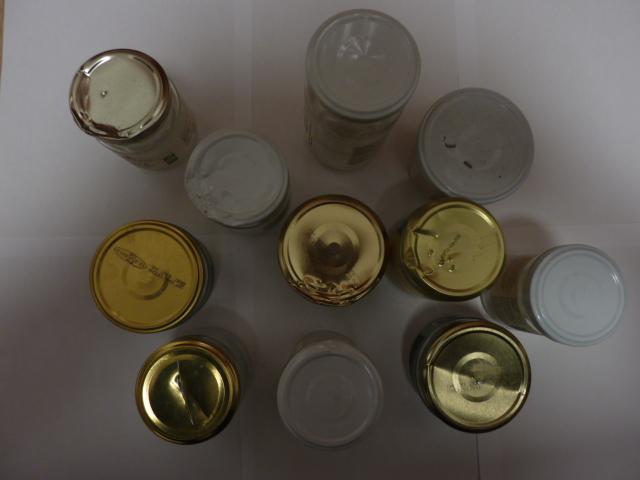damaged: (420, 86, 537, 204), (421, 320, 534, 434), (280, 194, 387, 309), (272, 342, 384, 450), (184, 128, 290, 229), (406, 198, 506, 301), (67, 46, 171, 142)
intact: (90, 218, 207, 335), (303, 7, 422, 121), (528, 242, 627, 347)
